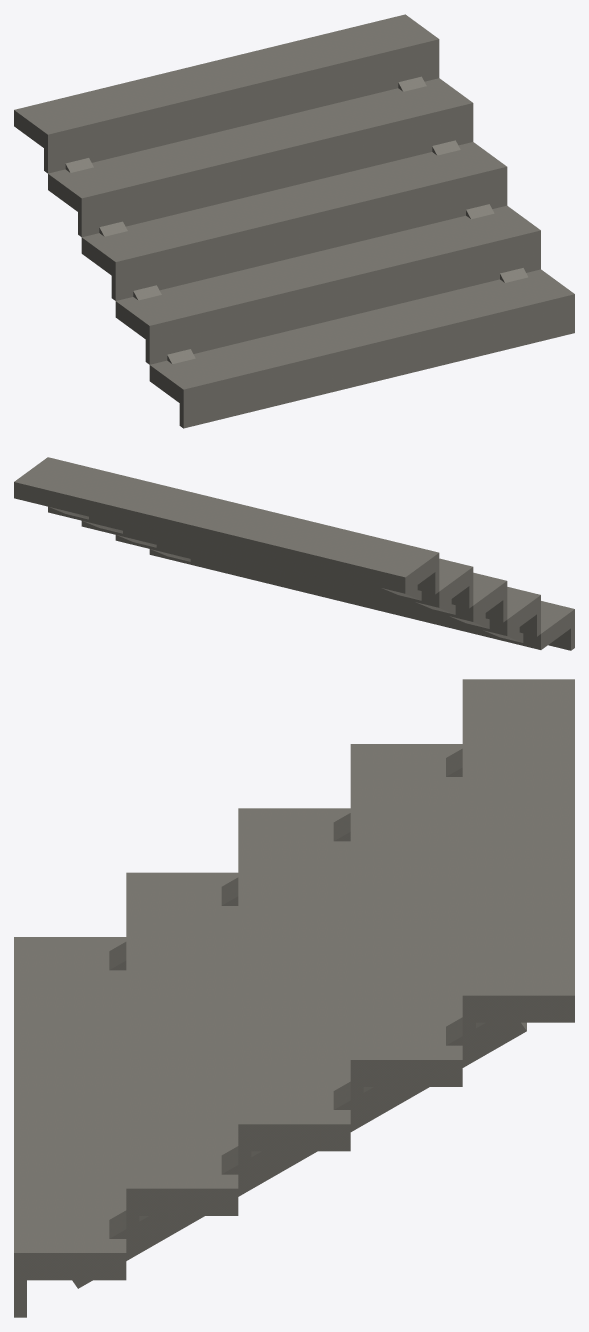
Rendered from OA_Stair_5_Steps.fbx.
3 renders of one model, top to bottom at view 1: azimuth 30°, elevation 25°; view 2: azimuth 150°, elevation 25°; view 3: azimuth 270°, elevation 25°, orthographic. The views are drawn at different scales.
Parts seen in each view (by area): view 1: OA_Stair_5_Steps; view 2: OA_Stair_5_Steps; view 3: OA_Stair_5_Steps.
Part boxes in pixels (x1,y1,x2,y2): OA_Stair_5_Steps: [14, 14, 574, 428]; OA_Stair_5_Steps: [14, 457, 574, 650]; OA_Stair_5_Steps: [14, 679, 574, 1317].
Bounding box in the file's own units: 2 × 0.95 × 1.5.
1 material, 1 textured.
